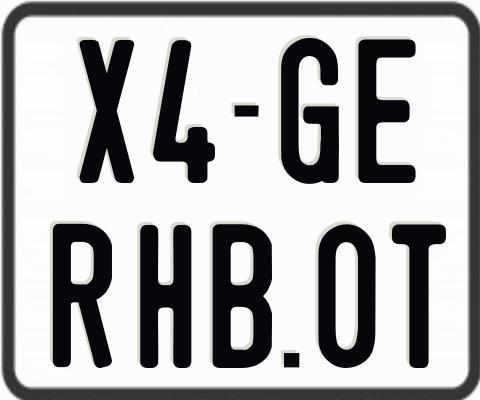0: (318, 224, 380, 371)
4: (151, 40, 219, 184)
B: (213, 223, 278, 372)
E: (356, 38, 419, 187)
G: (280, 37, 340, 185)
H: (139, 223, 193, 369)
R: (50, 221, 115, 368)
T: (391, 223, 446, 367)
X: (77, 39, 134, 184)
